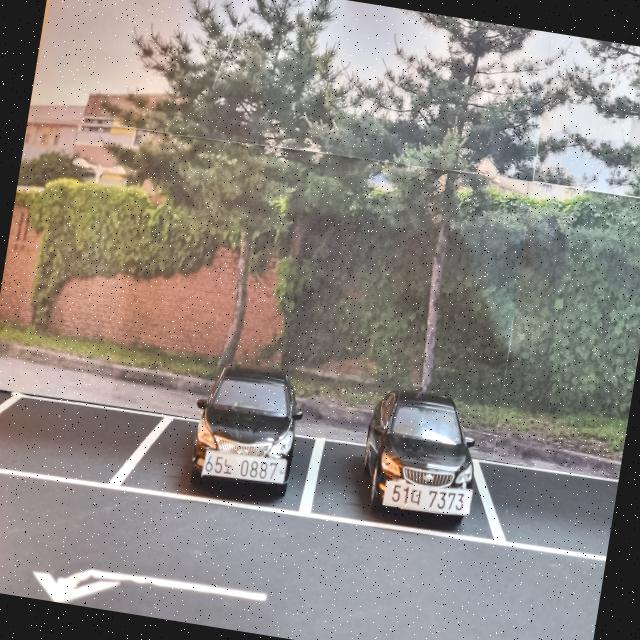empty: (0, 379, 160, 501), (459, 456, 618, 560)
occupied: (161, 354, 331, 516), (348, 382, 495, 532)
